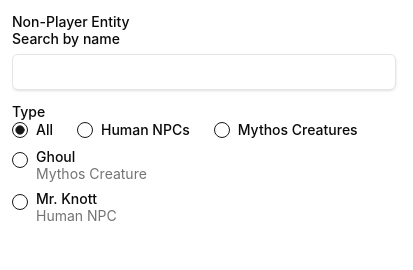
Scenario: NonPlayerEntityPicker › names the chosen entity and its type on a Selected line (SP-UX-51)
The width and height of the screenshot is (413, 270).
Check: the text "Selected:" is not shown
What coordinates should you click on to do the following:
click the radio button named "Ghoul" next to "Ghoul"
I would click on:
 (20, 160)
Its box is 12,152 -> 28,168.
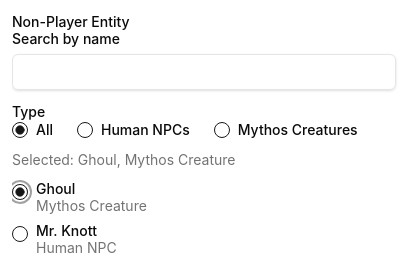
Check: the text "Selected: Ghoul, Mythos Creature" is shown, box 12,151 -> 236,168
